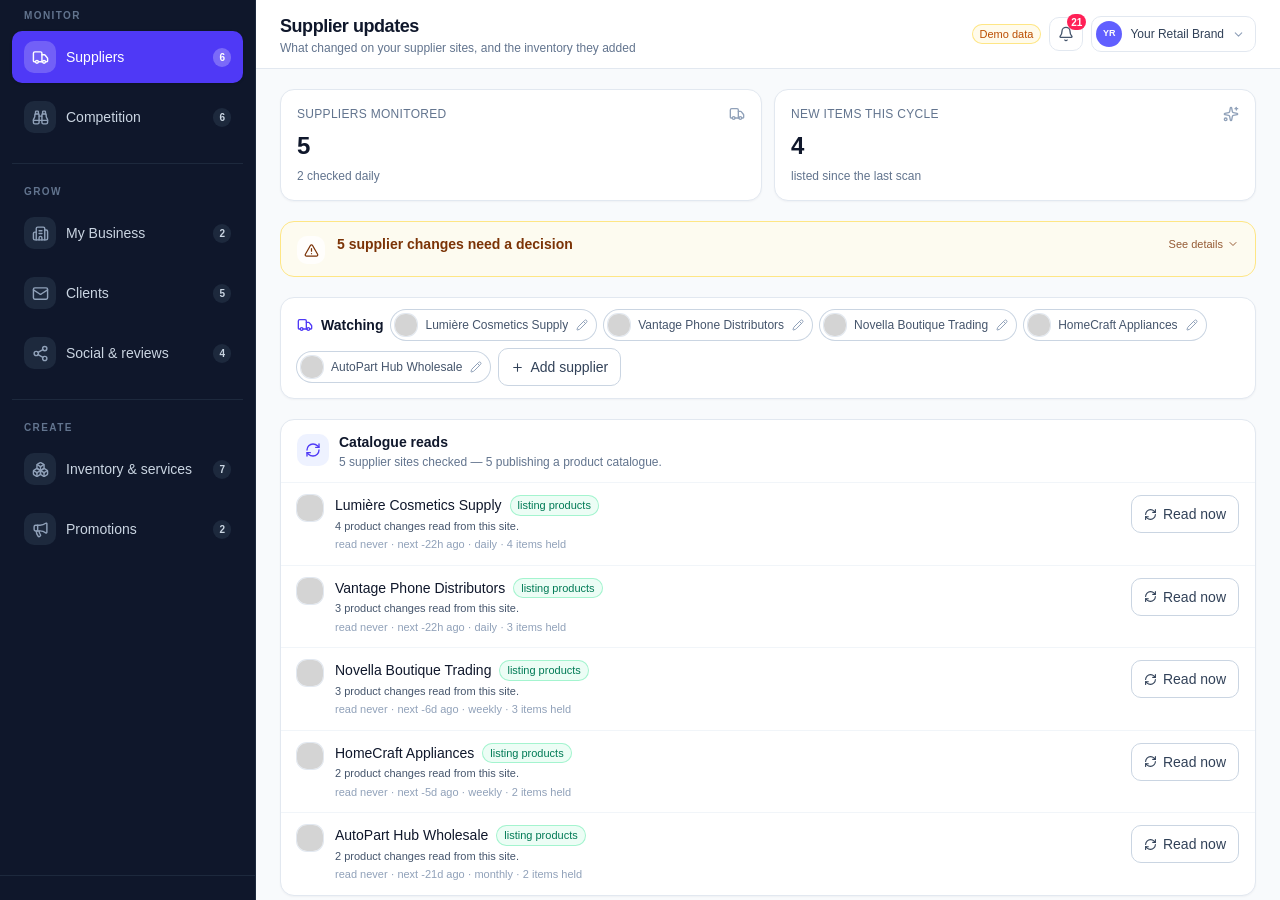
Test: Market Watch app › opens the business profile dialog with the logo uploader
Click the button with aria-label "Business profile": (1174, 34) [1091, 16, 1256, 52]
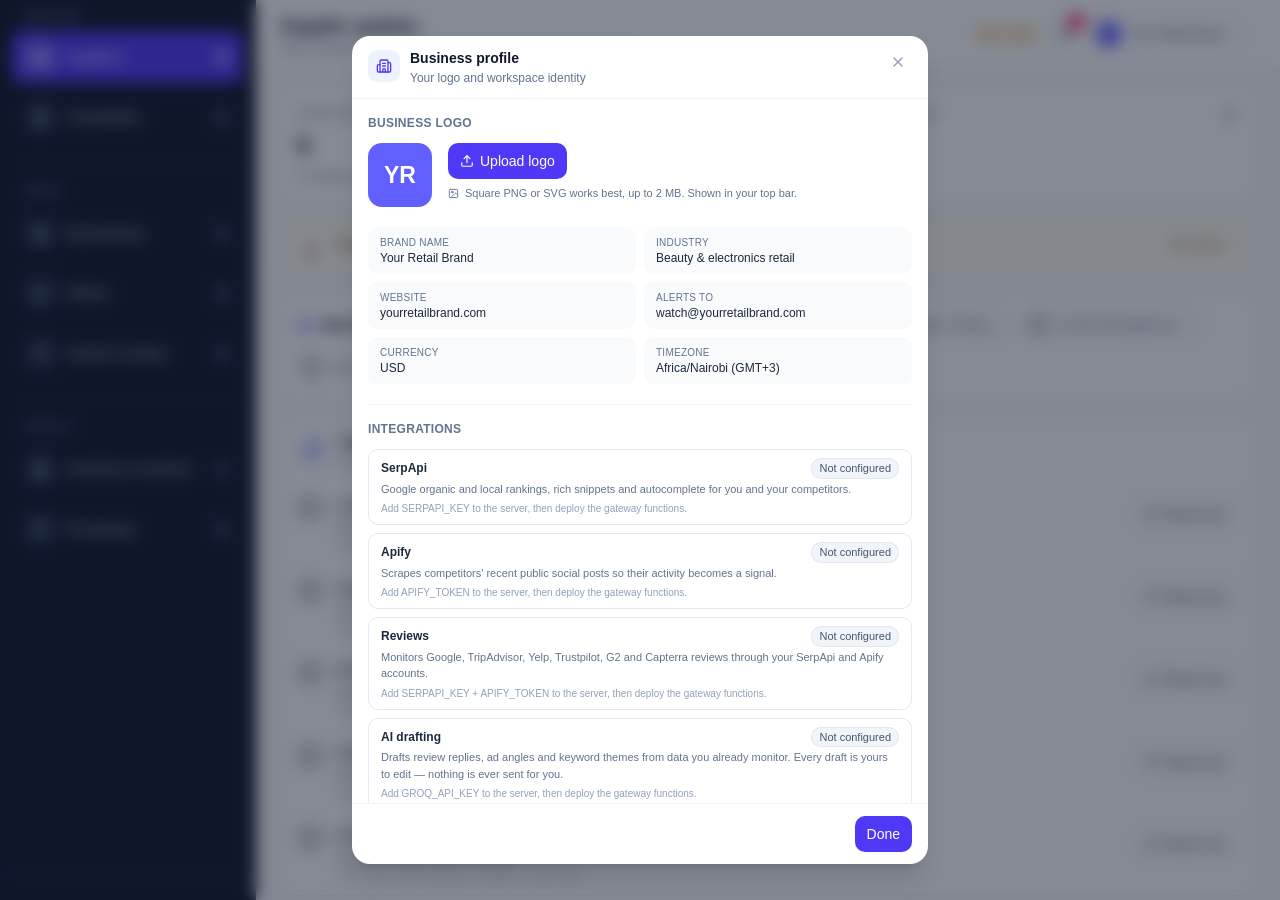
Expected: the dialog shows "Business logo", [368, 116, 472, 130]
Expected: the dialog shows "Upload logo", [448, 143, 567, 179]
